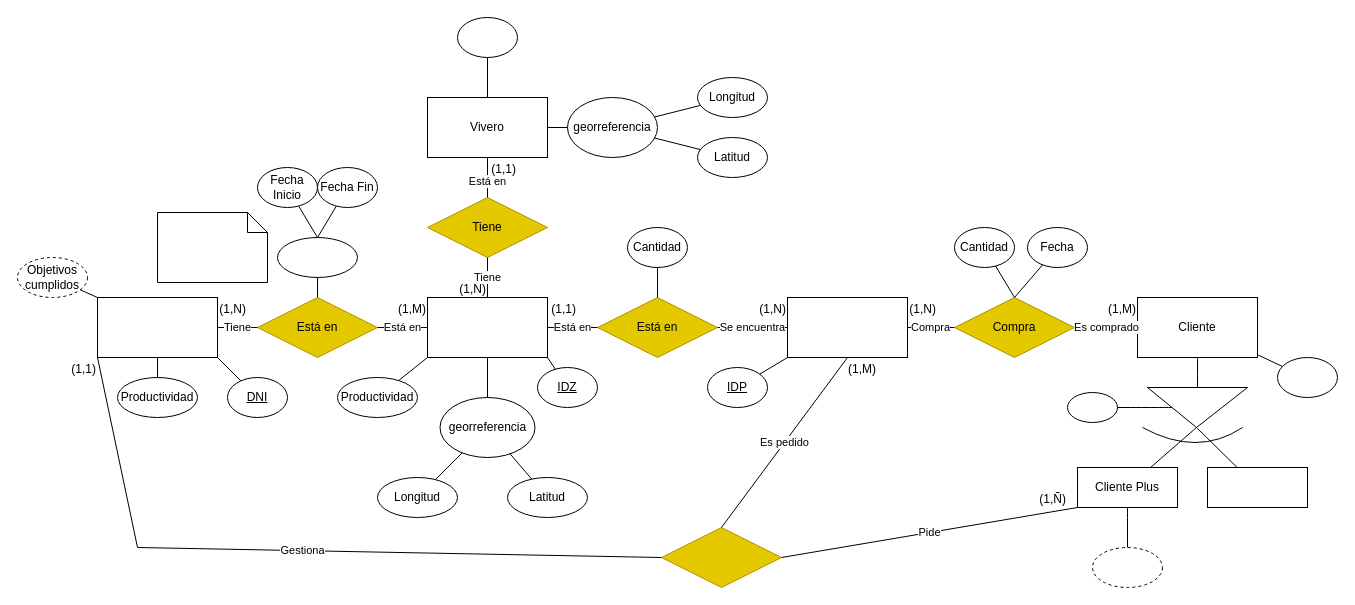
This 1355x605 diagram has some shape labels left out. Each missing label, with the centre of its shape:
"Cliente normal" belongs at [1257,487].
"Empleado" belongs at [157,327].
"En el mismo periodo un empleado no puede estar en varias zonas" belongs at [212,247].
"IDC" belongs at [1307,377].
"IDV" belongs at [487,37].
"N_Compras en el mes" belongs at [1127,567].
"Pedido" belongs at [721,557].
"Periodo" belongs at [317,257].
"Plus" belongs at [1092,407].
"Producto" belongs at [847,327].
"Zona" belongs at [487,327].
